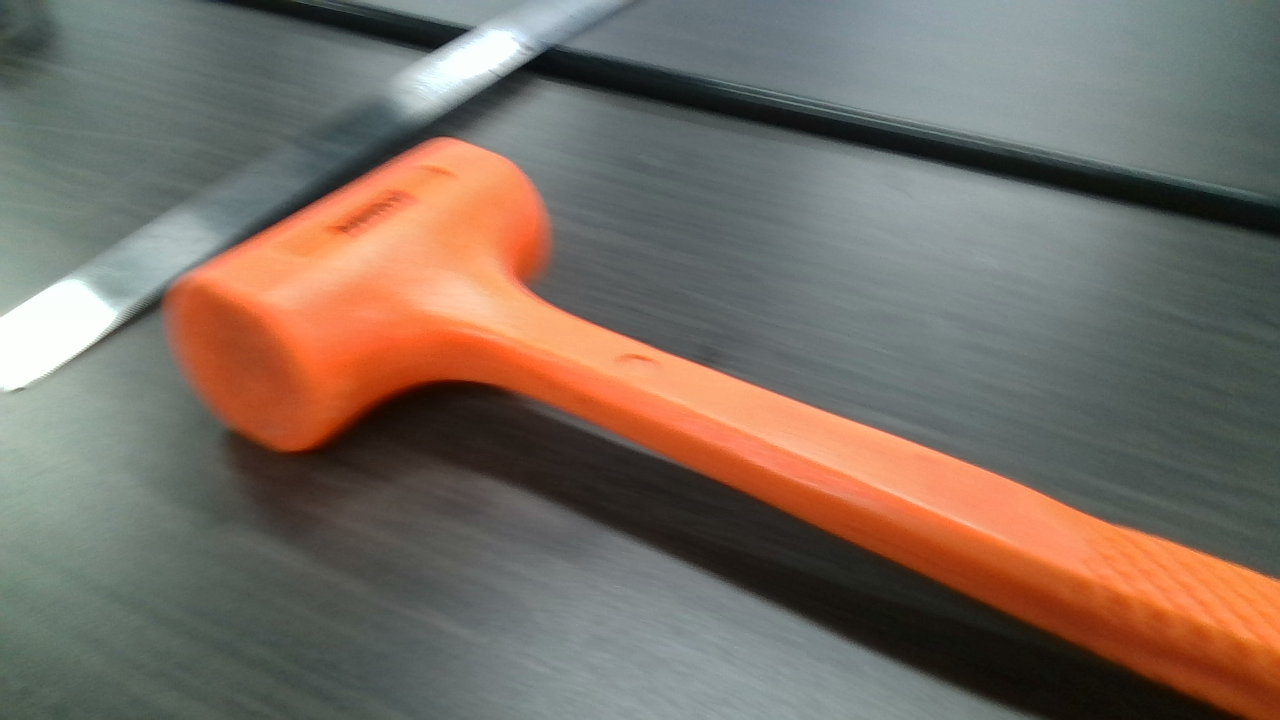Orange Hammer: (164, 133, 1280, 720)
